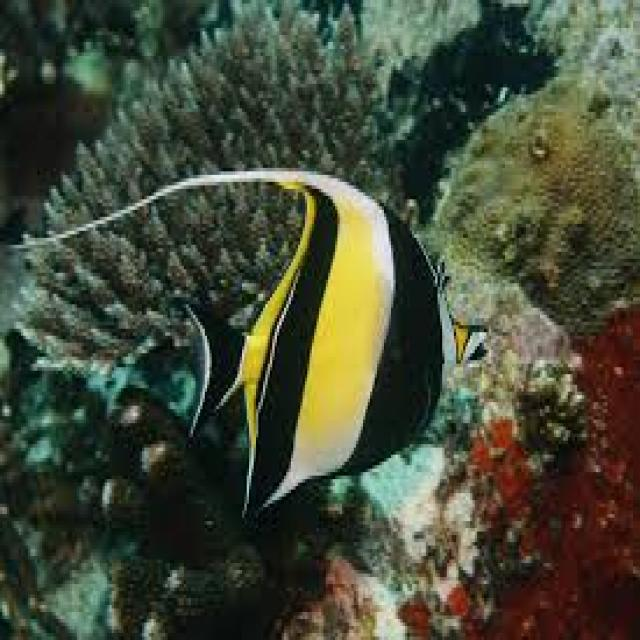MorishIdol: (183, 161, 491, 524)
